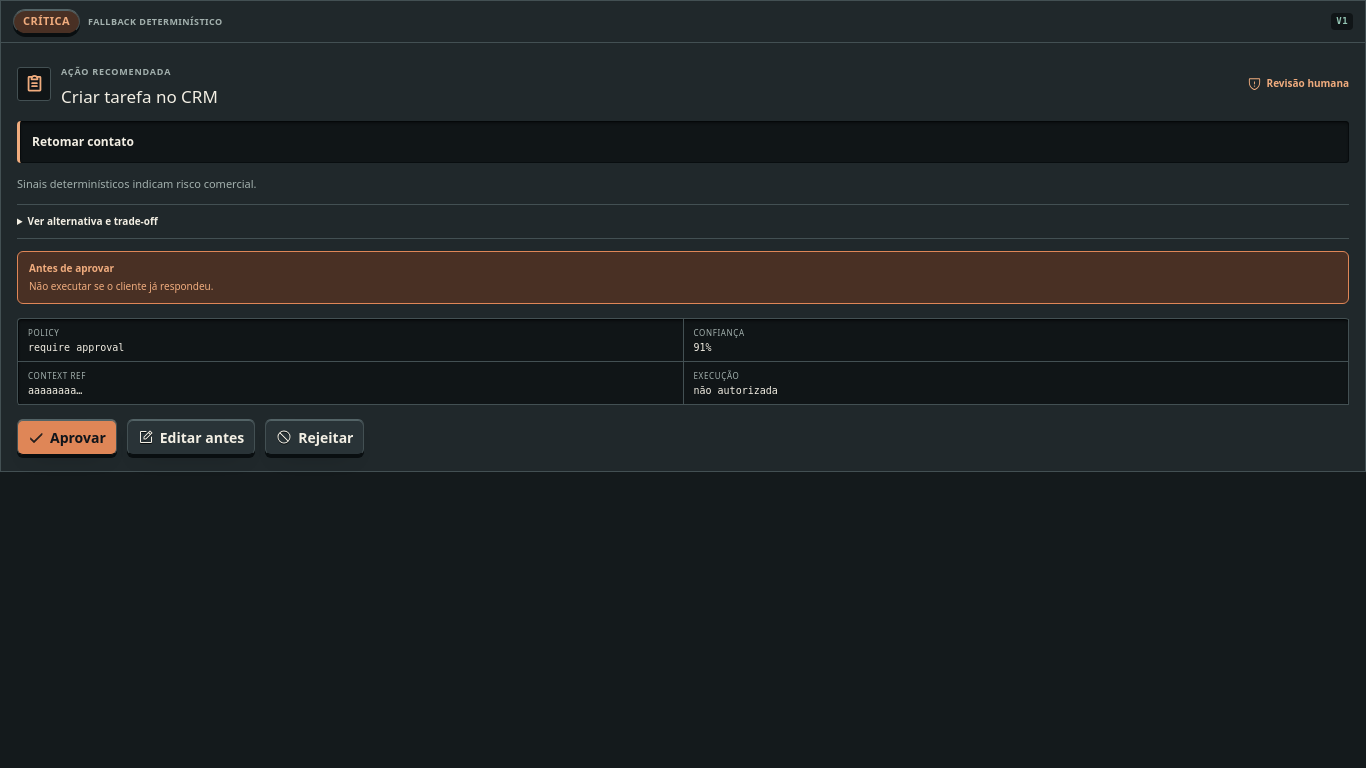
Test: removes an open edit form when permission is revoked
Click the button "Editar antes": (191, 437) [127,419,255,455]
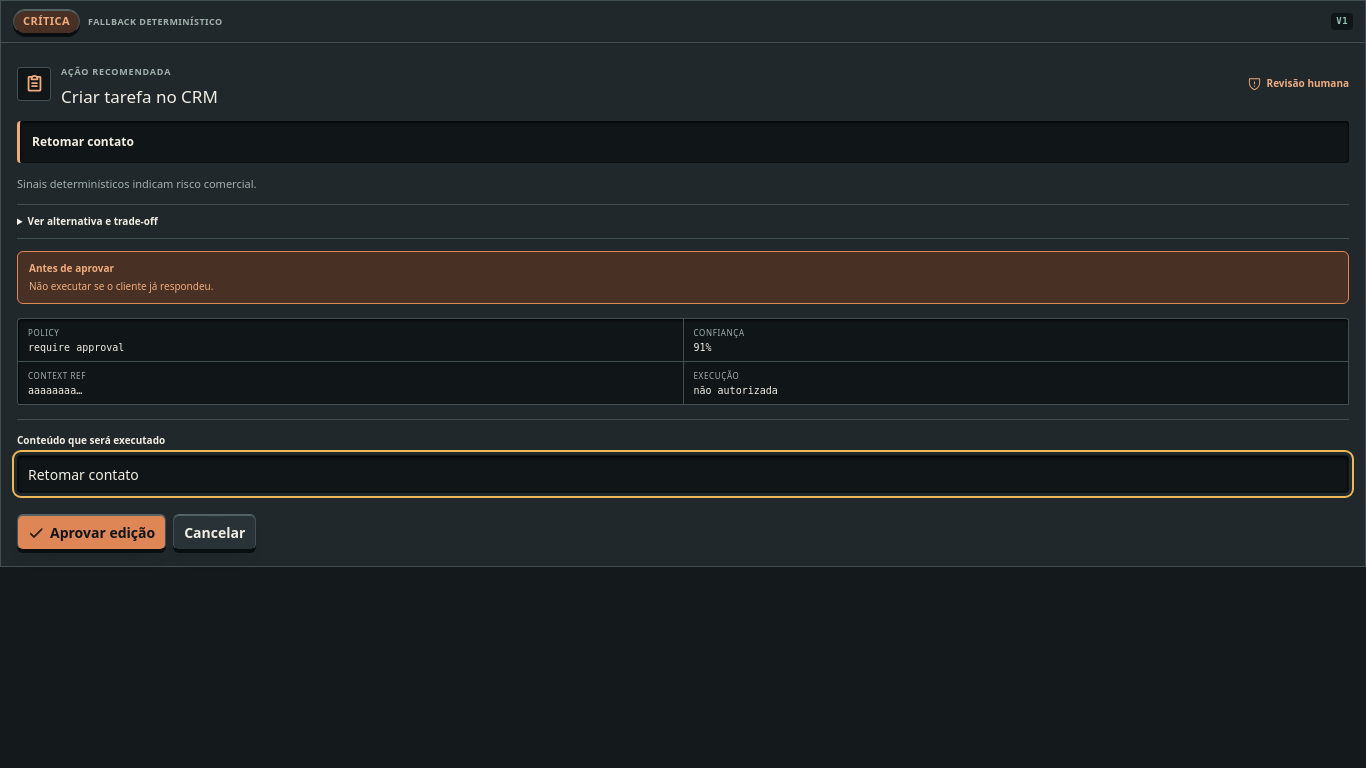
Expected: the field labelled "Conteúdo que será executado" is shown, [17,455,1349,493]
